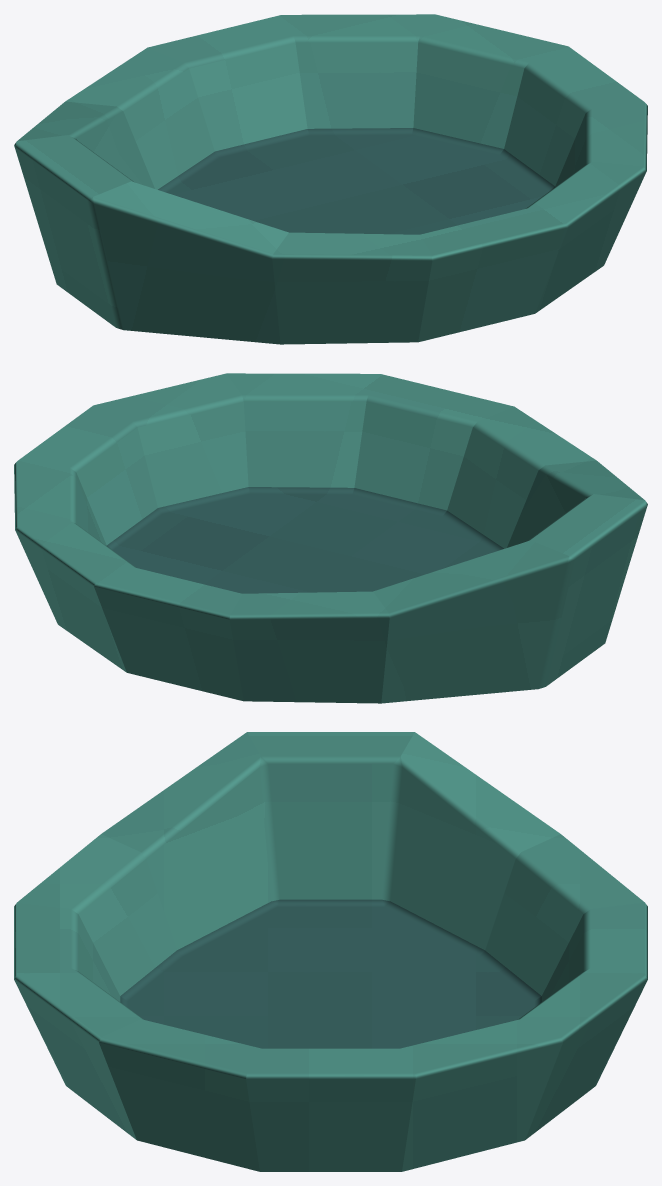
File: Pouring-lip.glb
3 renders of one model, top to bottom at view 1: azimuth 30°, elevation 25°; view 2: azimuth 150°, elevation 25°; view 3: azimuth 270°, elevation 25°, orthographic. The views are drawn at different scales.
Parts seen in each view (by area): view 1: Pouring-lip; view 2: Pouring-lip; view 3: Pouring-lip.
Boxes of the visible parts, x1,y1,x2,y2 form: Pouring-lip: [14, 14, 647, 344]; Pouring-lip: [14, 373, 647, 703]; Pouring-lip: [14, 732, 647, 1171].
Bounding box in the file's own units: 0.2672 × 0.0662 × 0.238.
Materials: 2 (2 with a texture image).
